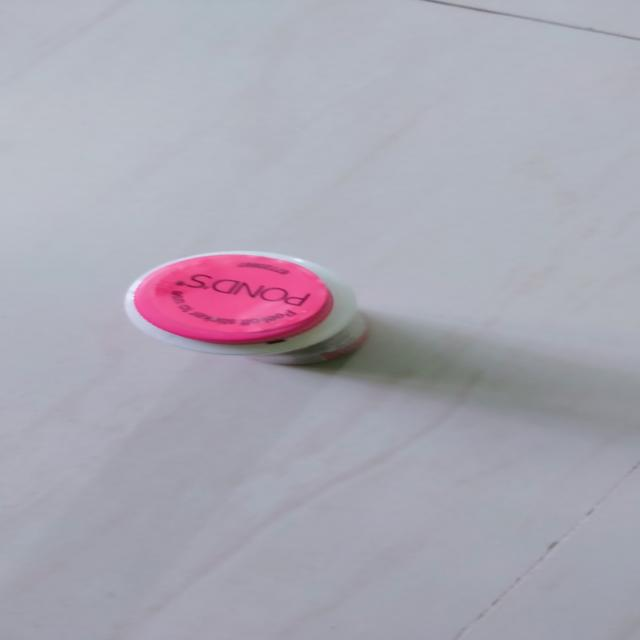powder: (125, 252, 372, 356)
